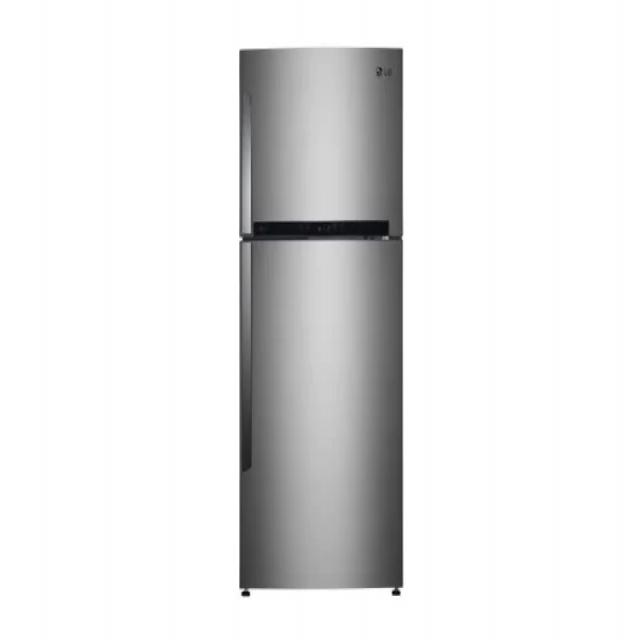refrigerator: (238, 44, 405, 590)
